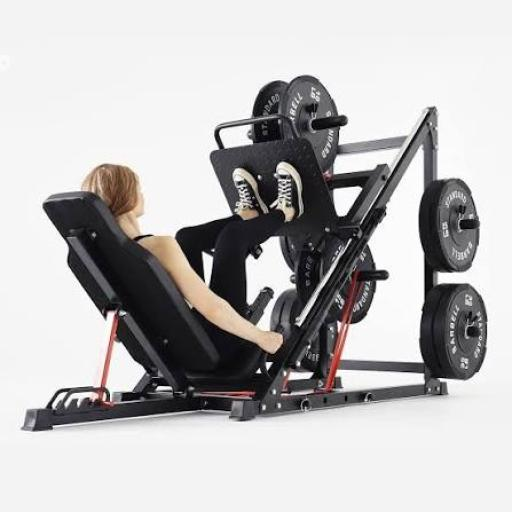Leg Press: (40, 115, 474, 406)
